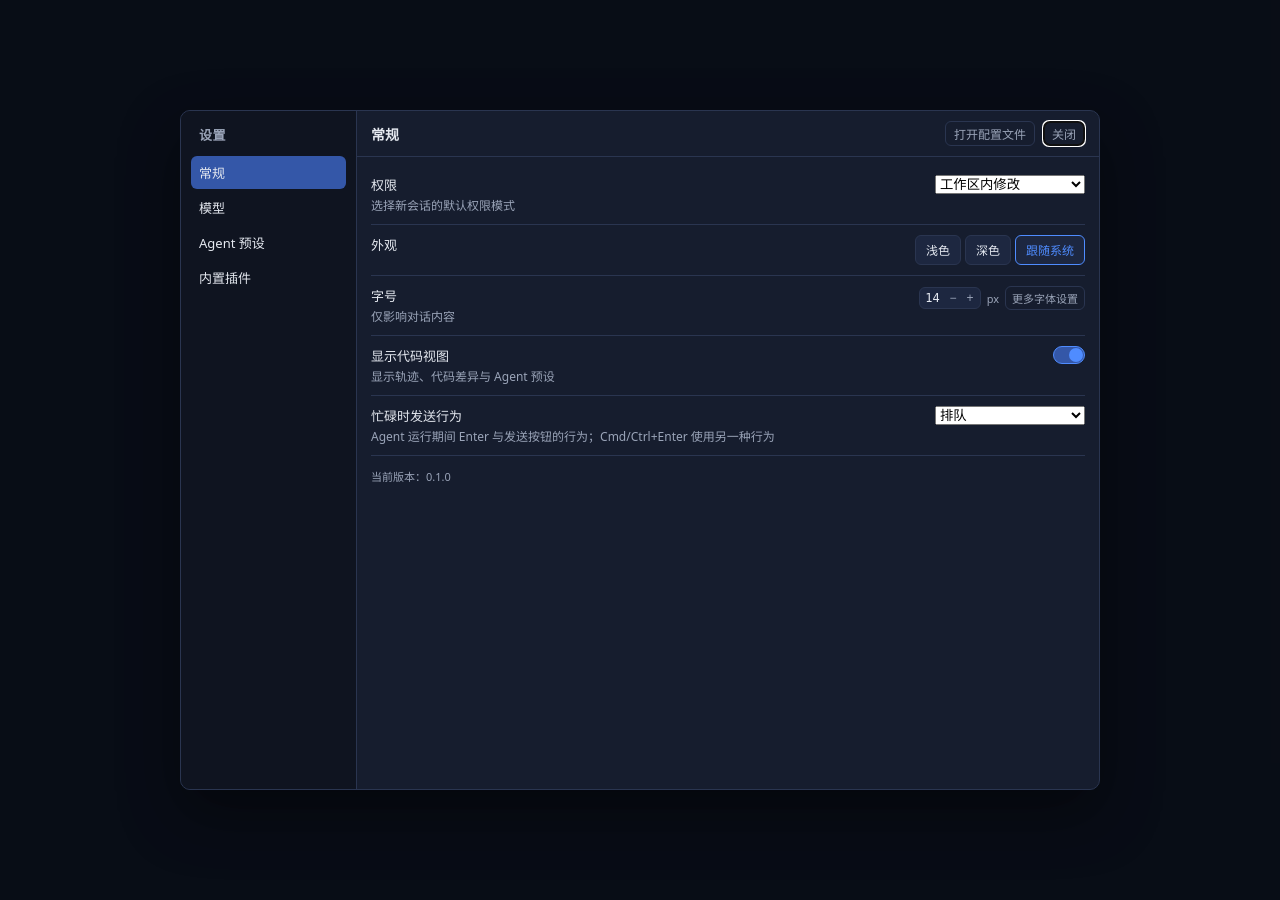
Test: SettingsDialog shell › surfaces the deployment's missing desktop opener instead of pretending it opened
expect the dropdown named "权限" shows "工作区内修改": met, box 935,175 -> 1085,194
Click the button "打开配置文件". click: (990, 134)
box: 945,121 -> 1035,146
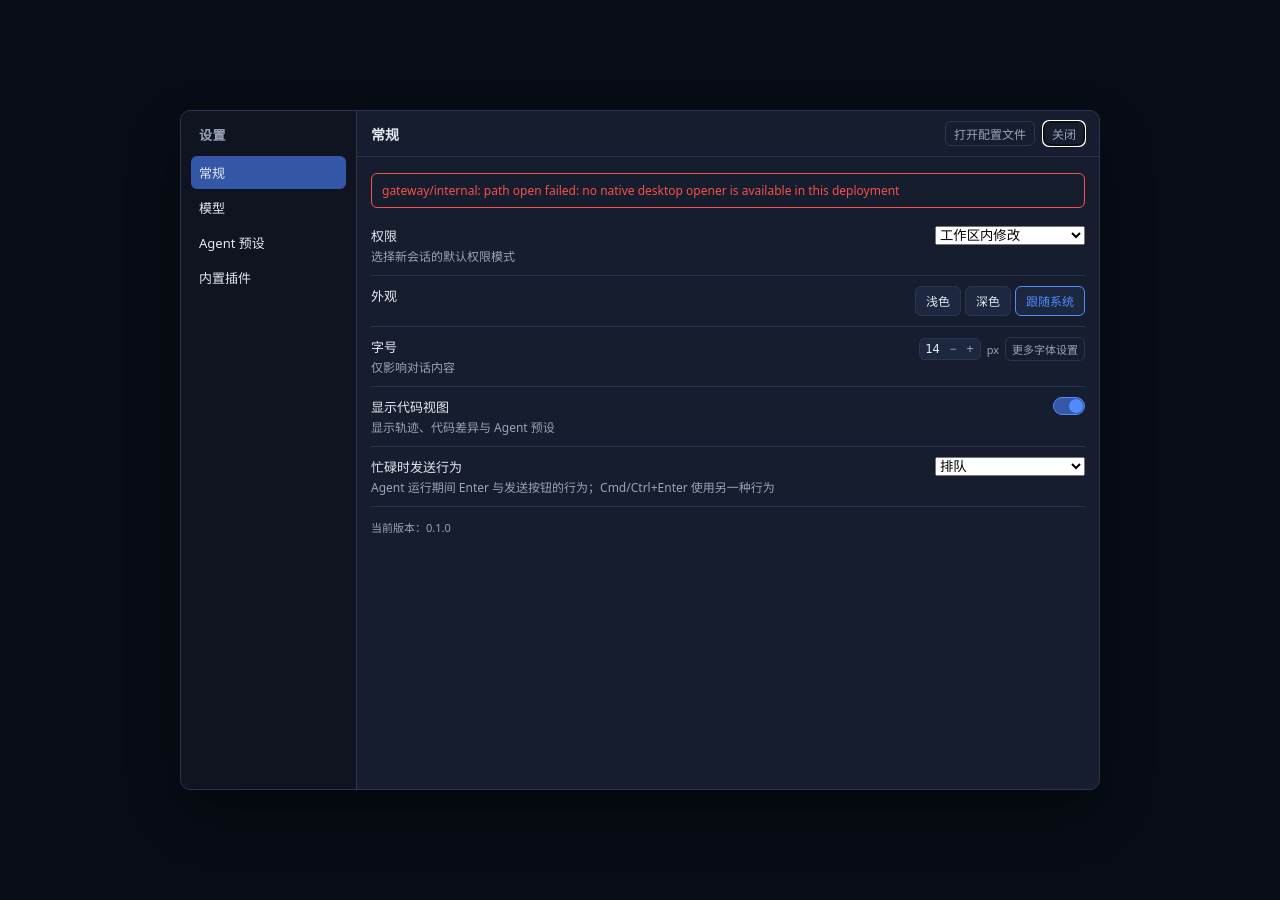
expect the message shows "no native desktop opener is available": met, box 382,182 -> 899,199
